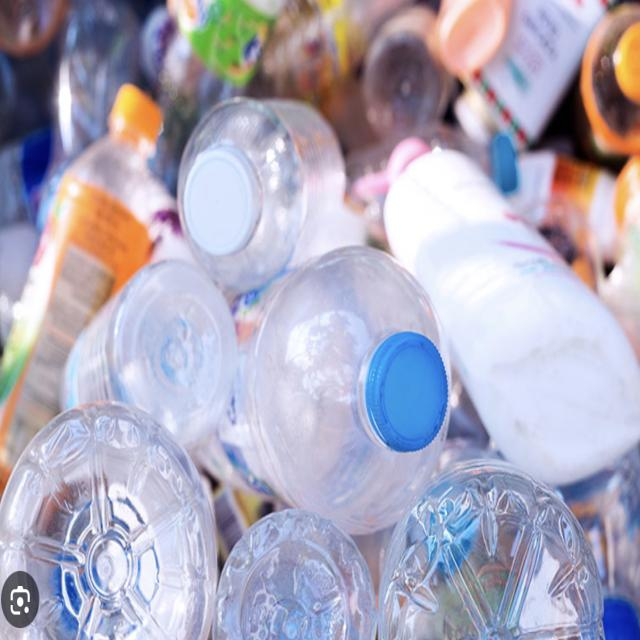recyclable: (372, 121, 640, 502), (238, 222, 463, 530), (3, 373, 219, 632), (171, 83, 361, 286)
